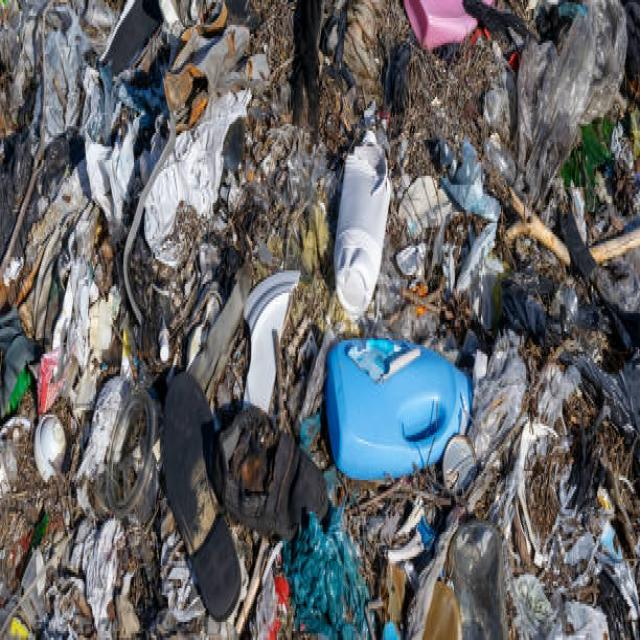plastic: (328, 124, 490, 505)
